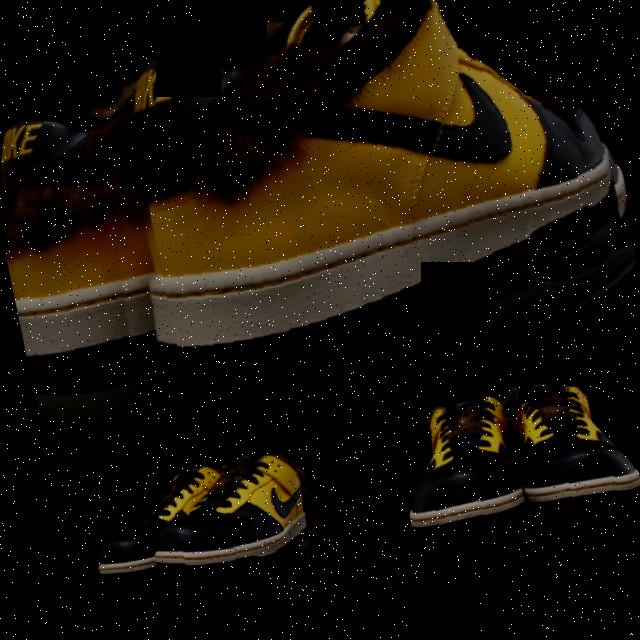shoe: (112, 0, 640, 378), (338, 312, 640, 572), (0, 54, 149, 368), (176, 401, 363, 594), (54, 453, 190, 614)
